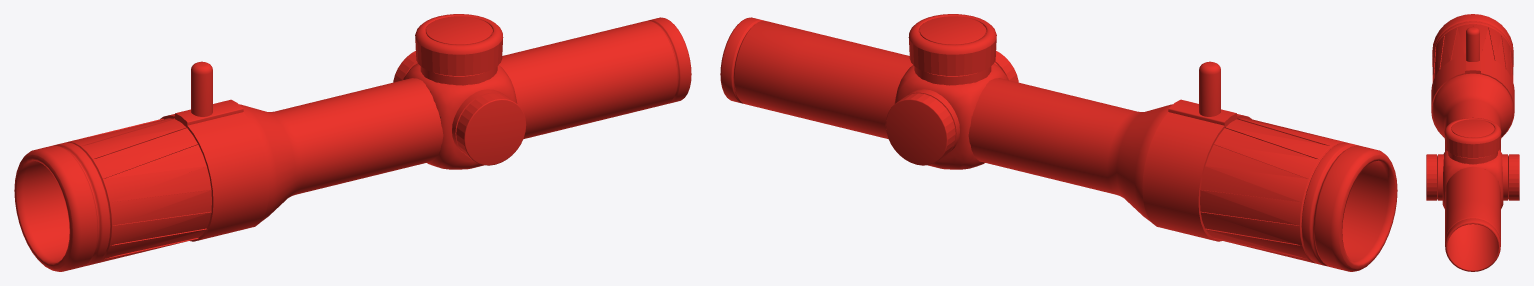
File: VuduOpticHolo.fbx
3 views of the same model, side by side, from view 1: azimuth 30°, elevation 25°; view 2: azimuth 150°, elevation 25°; view 3: azimuth 270°, elevation 25° (orthographic). The views are drawn at different scales.
Parts seen in each view (by area): view 1: Vudu.003, MagificationSlider; view 2: Vudu.003, MagificationSlider; view 3: Vudu.003, MagificationSlider.
Boxes of the visible parts, x1,y1,x2,y2 form: Vudu.003: [14, 14, 691, 271]; MagificationSlider: [160, 61, 269, 241]; Vudu.003: [720, 14, 1397, 271]; MagificationSlider: [1142, 61, 1251, 241]; Vudu.003: [1426, 14, 1519, 271]; MagificationSlider: [1431, 27, 1514, 137].
Bounding box in the file's own units: 26.47 × 6.76 × 5.27.
